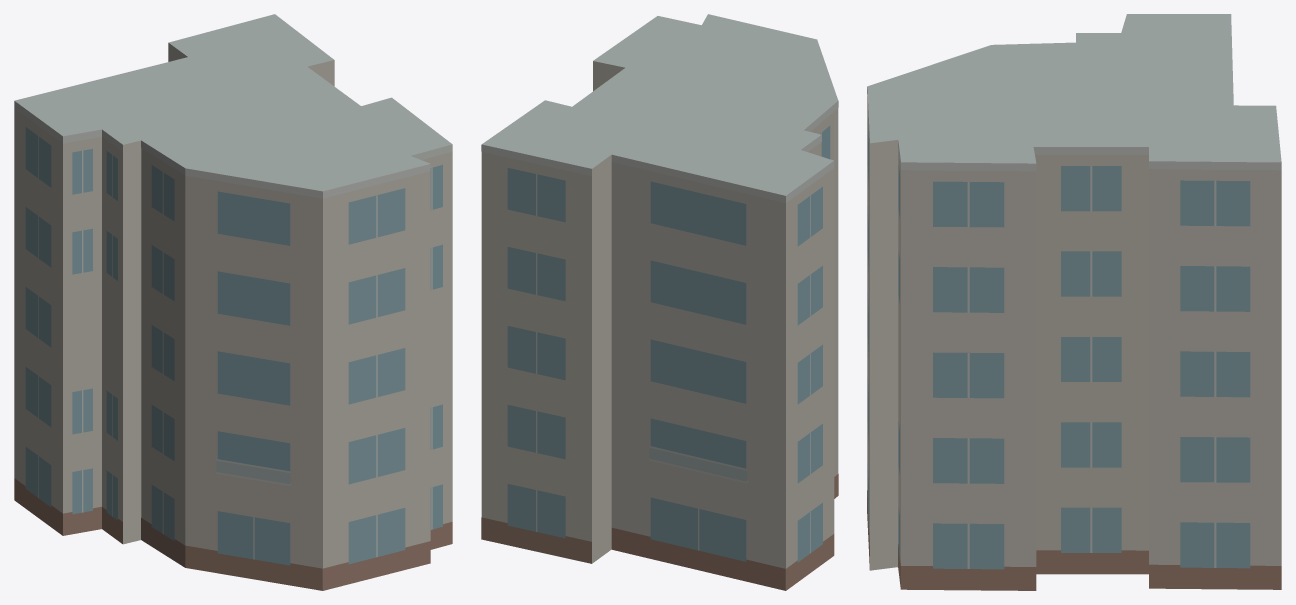
File: survey-upis-32576620.glb
3 renders of one model, left to right at view 1: azimuth 30°, elevation 25°; view 2: azimuth 150°, elevation 25°; view 3: azimuth 270°, elevation 25°, orthographic. The views are drawn at different scales.
Parts seen in each view (by area): view 1: survey-upis-32576620.tmp; view 2: survey-upis-32576620.tmp; view 3: survey-upis-32576620.tmp.
Boxes of the visible parts, x1,y1,x2,y2 form: survey-upis-32576620.tmp: (14,14,452,590); survey-upis-32576620.tmp: (481,14,838,590); survey-upis-32576620.tmp: (867,14,1281,590).
Size of the model in its own units: 10.07 by 13.4 by 11.79.
